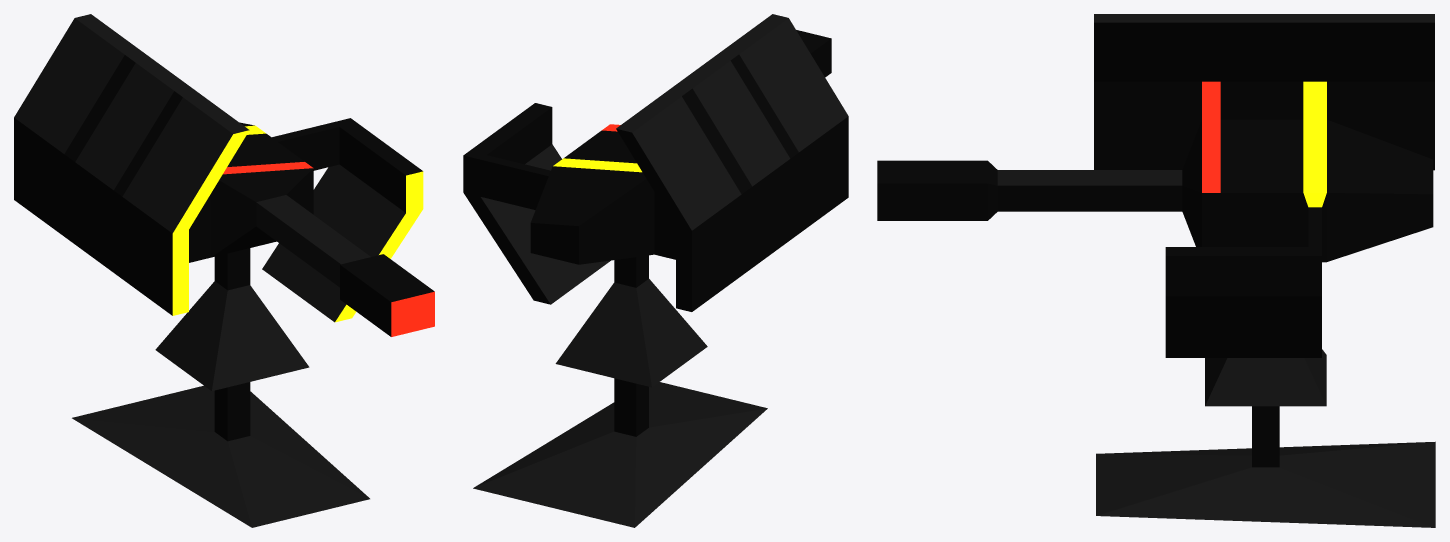
File: Turret.fbx
The picture shows the model from 3 angles, left to right: view 1: azimuth 30°, elevation 25°; view 2: azimuth 150°, elevation 25°; view 3: azimuth 270°, elevation 25°; orthographic projection. The views are drawn at different scales.
Parts seen in each view (by area): view 1: Cube, Cube.001; view 2: Cube, Cube.001; view 3: Cube, Cube.001.
Boxes of the visible parts, left/top/right/bottom form: Cube: left=14, top=14, right=434, bottom=336; Cube.001: left=72, top=248, right=369, bottom=527; Cube: left=463, top=14, right=848, bottom=311; Cube.001: left=473, top=255, right=767, bottom=527; Cube: left=877, top=14, right=1434, bottom=357; Cube.001: left=1096, top=349, right=1435, bottom=527.
Size of the model in its own units: 423 by 568 by 669.
